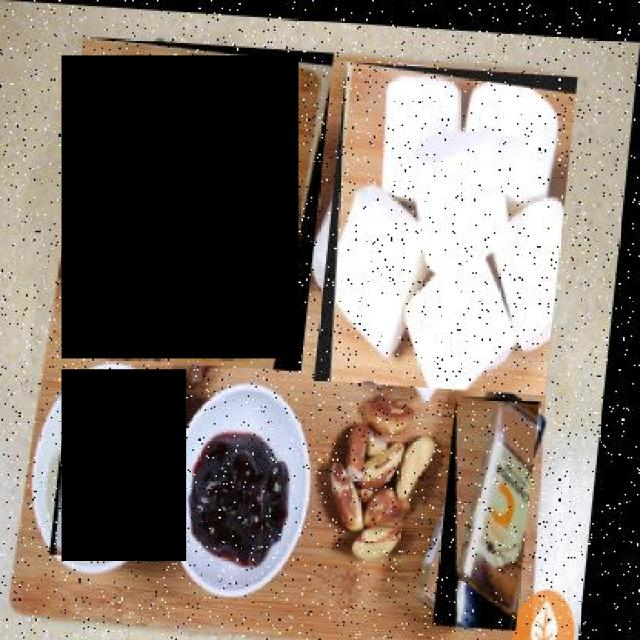Butter: (62, 370, 186, 561)
Sweet_Potato: (62, 57, 298, 358)
